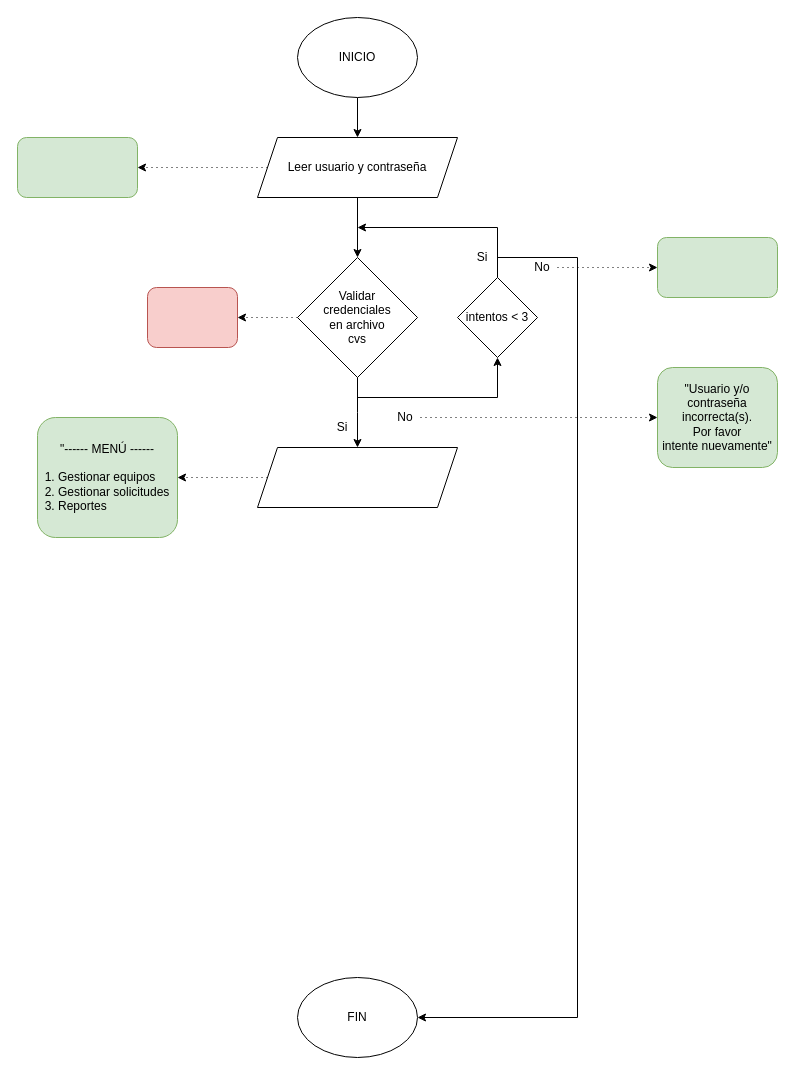
The diagram is 795 pixels wide and 1075 high, and some of its shapes have lost their labels. The centre of each missing label's shape, as x and y in pixels:
"Has superado el máximo de intentos. ": pixel 717 267
"Ingresa tu usuario y contraseña ": pixel 77 167
Mostra Menú:: pixel 357 477
usuarios.csv: pixel 192 317
